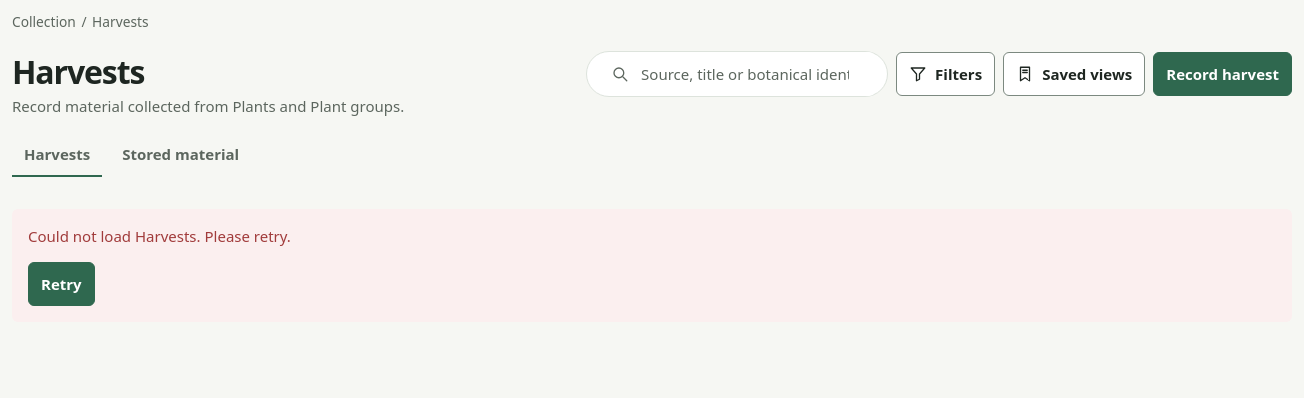
Test: Harvest directory and detail › allows retry after a directory failure
Expected: the message shows "Could not load Harvests", x1=28 y1=226 x2=291 y2=246
Click the button "Retry".
click(61, 284)  # box x1=28 y1=262 x2=95 y2=306
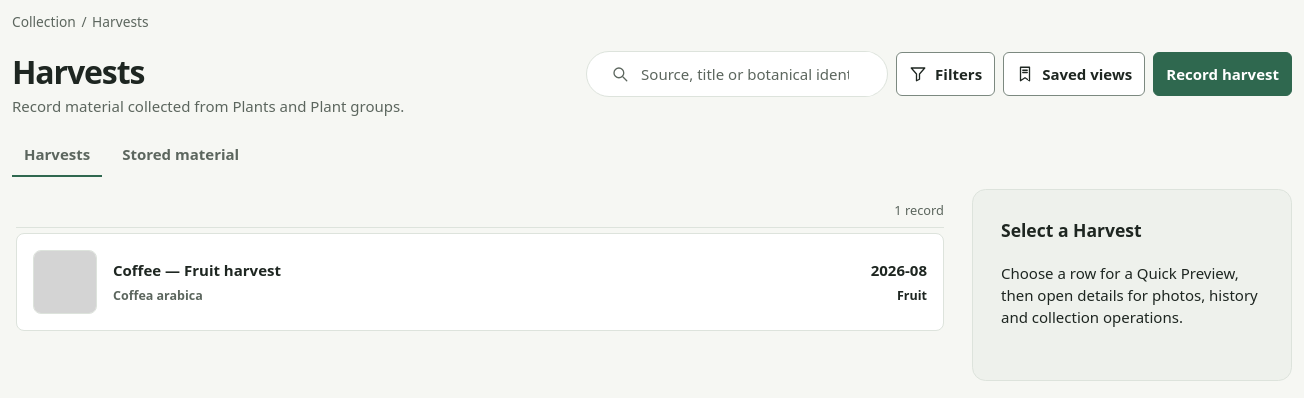
Expected: the button "Coffee — Fruit harvest Coffea arabica 2026-08 Fruit" is shown, x1=16 y1=233 x2=944 y2=331
